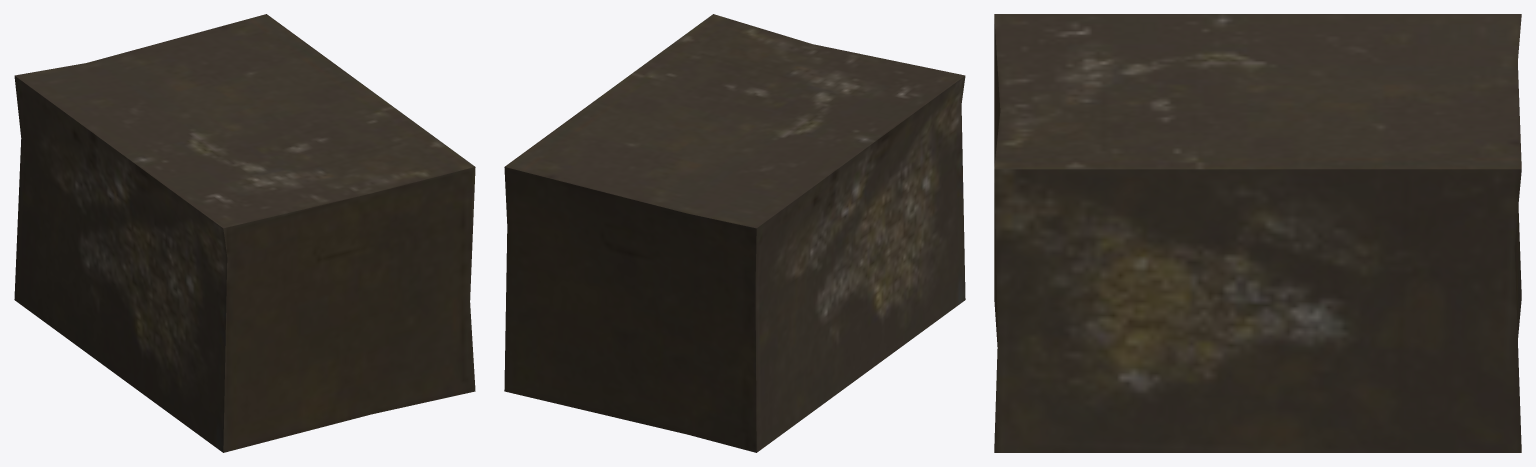
Rendered from CardboardBox_02.FBX.
The picture shows the model from 3 angles, left to right: view 1: azimuth 30°, elevation 25°; view 2: azimuth 150°, elevation 25°; view 3: azimuth 270°, elevation 25°; orthographic projection. The views are drawn at different scales.
Visible parts, largest first — view 1: CardboardBox_02; view 2: CardboardBox_02; view 3: CardboardBox_02.
Boxes of the visible parts, x1,y1,x2,y2 form: CardboardBox_02: [14, 14, 475, 452]; CardboardBox_02: [504, 14, 965, 452]; CardboardBox_02: [994, 14, 1521, 452].
Size of the model in its own units: 41.7 by 35.48 by 59.83.
